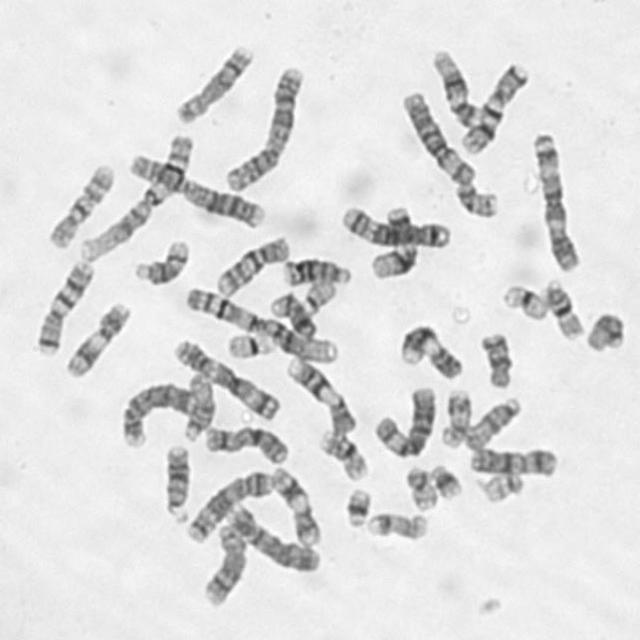A1: (75, 131, 195, 263), (183, 283, 339, 365)
A2: (126, 148, 267, 230), (222, 63, 307, 194)
A3: (170, 335, 281, 422), (527, 128, 582, 272)
B4: (221, 502, 323, 574), (116, 378, 198, 449)
B5: (184, 466, 278, 546), (339, 202, 451, 249)
C10: (43, 158, 118, 251), (212, 233, 292, 299)
C11: (60, 298, 133, 380), (270, 462, 322, 548)
C12: (432, 46, 486, 129), (367, 203, 418, 280)
C6: (399, 87, 476, 187), (370, 382, 437, 460)
C7: (457, 59, 531, 156), (30, 256, 96, 358)
C8: (170, 41, 255, 126), (198, 523, 247, 608)
C9: (283, 352, 358, 436), (397, 322, 464, 381)
D13: (280, 253, 353, 288), (160, 440, 191, 521)
D14: (130, 235, 191, 286), (268, 289, 318, 340)
D15: (460, 393, 525, 452), (180, 371, 216, 444)
E16: (315, 426, 371, 482), (540, 276, 586, 343)
E17: (437, 387, 473, 450), (363, 508, 430, 541)
E18: (478, 327, 516, 391), (584, 313, 627, 352)
F19: (498, 281, 550, 322), (223, 326, 277, 358)
F20: (453, 176, 501, 219), (402, 464, 439, 512)
G21: (340, 484, 372, 528), (429, 460, 464, 500)
G22: (300, 275, 338, 315), (482, 471, 526, 505)
X: (201, 421, 290, 465), (466, 443, 560, 477)
